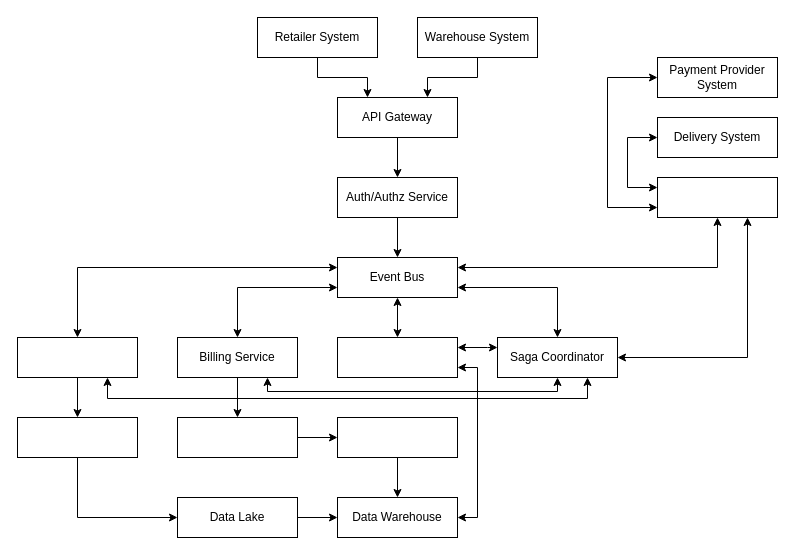
Some shapes in this 795 by 555 pixel diagram are drawn without their labels. The centre of each missing label's shape, as x and y in pixels:
"Billing DB" belongs at [237,437].
"Integration Hub" belongs at [717,197].
"Inventory DB" belongs at [77,437].
"Inventory Service" belongs at [77,357].
"Logging Utility" belongs at [397,437].
"Reporting Service" belongs at [397,357].
